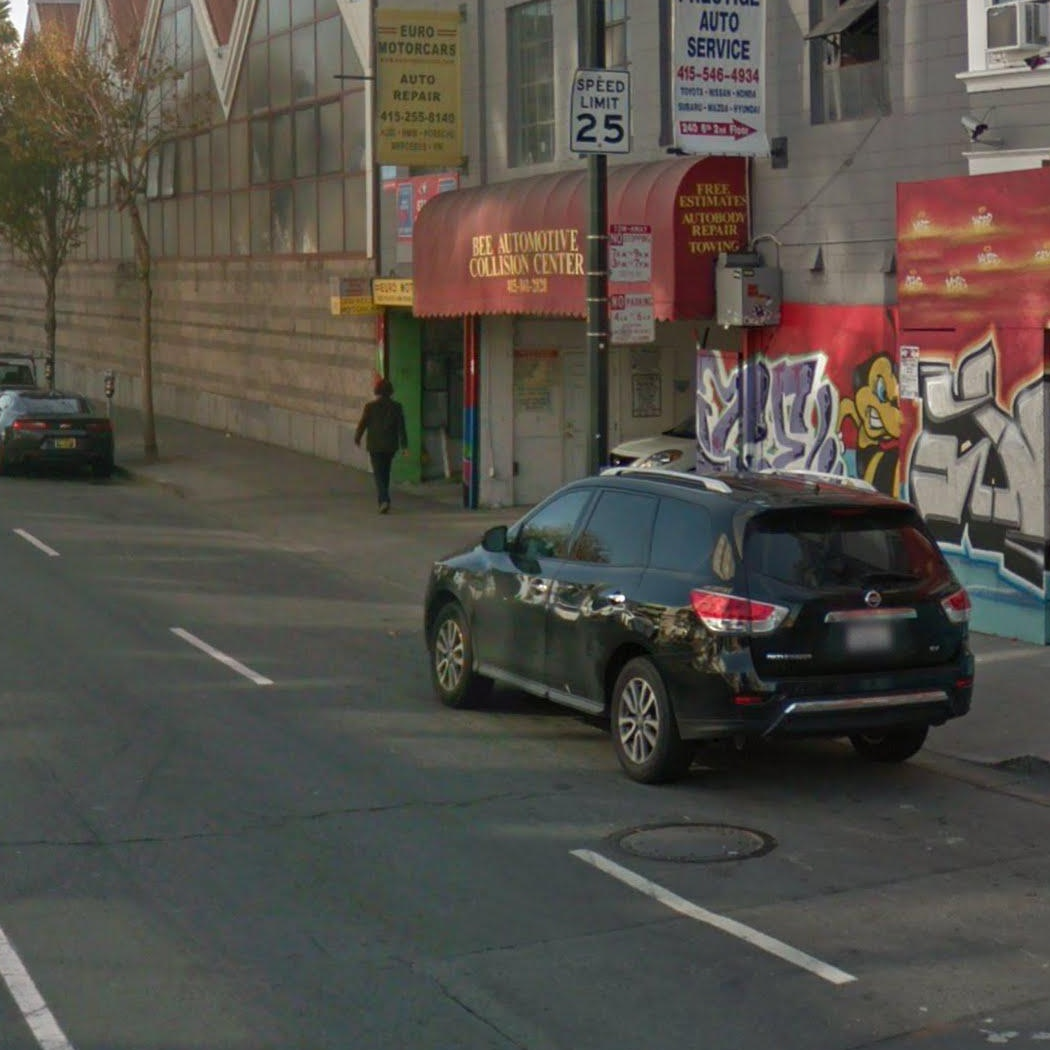No Parking: (608, 292, 656, 344)
